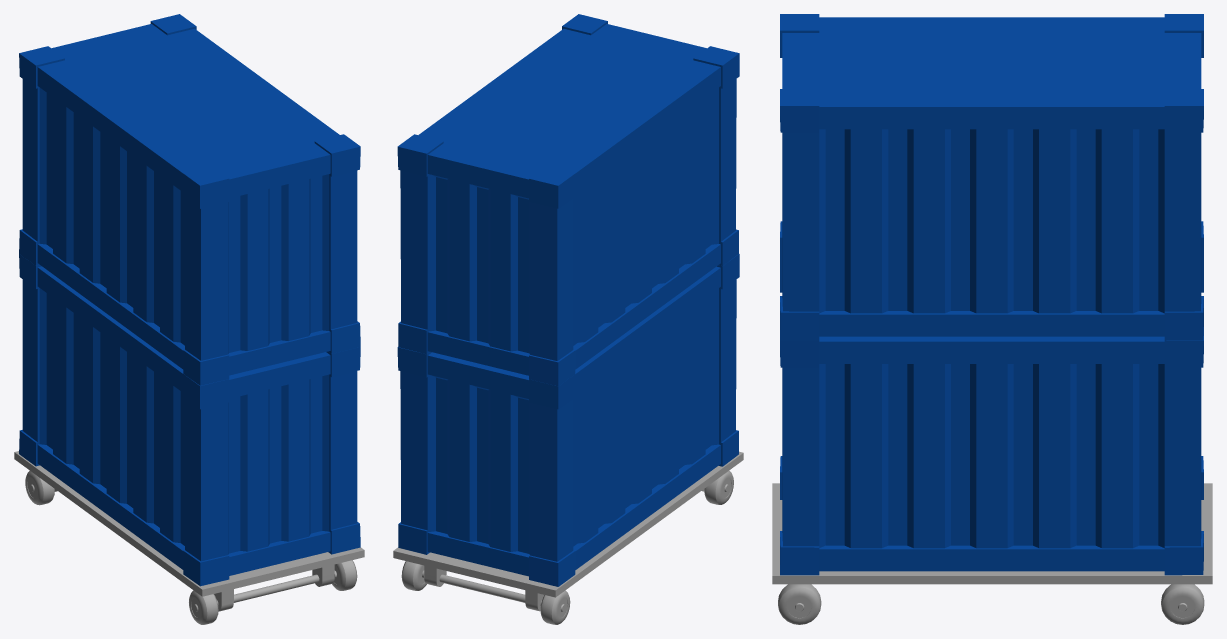
File: kontena_test.fbx
The picture shows the model from 3 angles, left to right: view 1: azimuth 30°, elevation 25°; view 2: azimuth 150°, elevation 25°; view 3: azimuth 270°, elevation 25°; orthographic projection. The views are drawn at different scales.
Visible parts, largest first — view 1: pCube1; view 2: pCube1; view 3: pCube1.
Boxes of the visible parts, box(x1,y1,x2,y2) form: pCube1: box(14, 14, 364, 624); pCube1: box(393, 14, 743, 624); pCube1: box(772, 14, 1212, 624).
Bounding box in the file's own units: 17.77 × 46.71 × 35.67.
